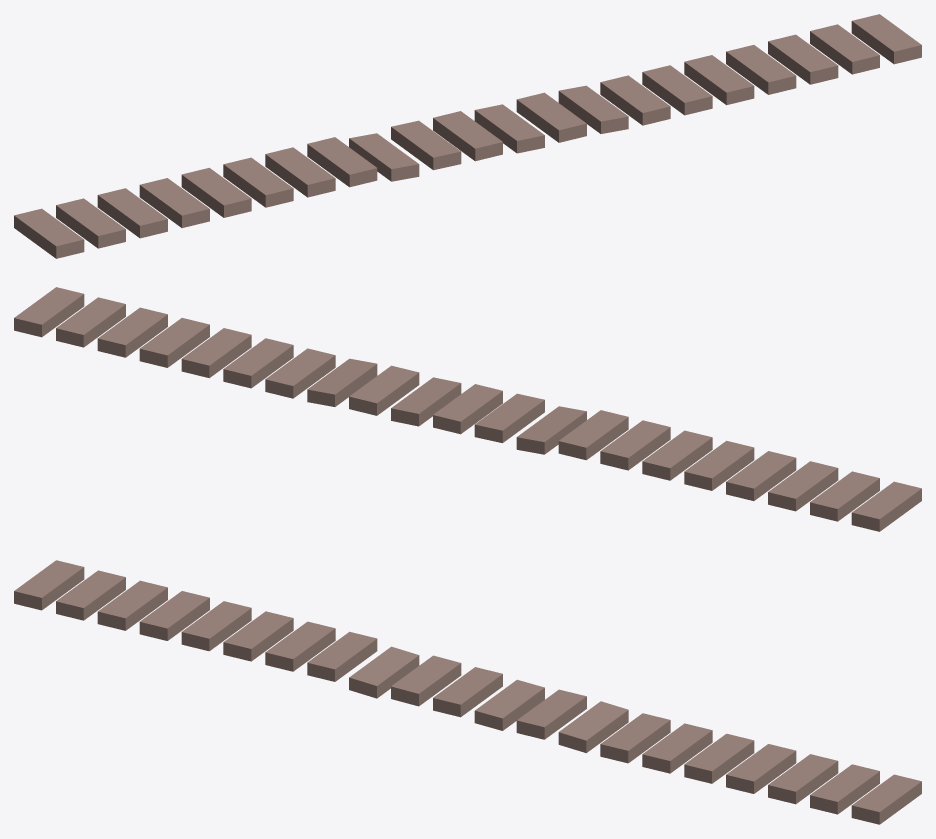
Rendered from stones.glb.
The picture shows the model from 3 angles, top to bottom: view 1: azimuth 30°, elevation 25°; view 2: azimuth 150°, elevation 25°; view 3: azimuth 330°, elevation 25°; orthographic projection.
Visible parts, largest first — view 1: Cube.025; view 2: Cube.025; view 3: Cube.025.
Boxes of the visible parts, x1,y1,x2,y2 form: Cube.025: [14, 14, 921, 258]; Cube.025: [14, 287, 921, 531]; Cube.025: [14, 560, 921, 824].
Bounding box in the file's own units: 5.33 × 0.1323 × 0.4513.
